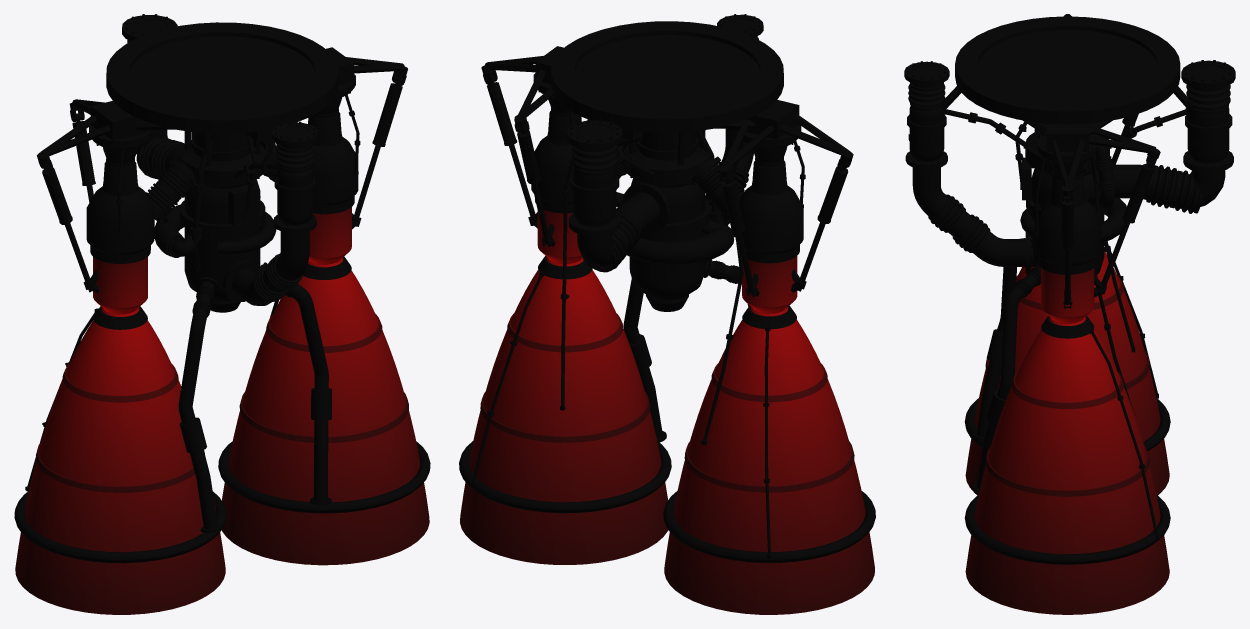
File: eng_kerolox_staged_combustion.fbx
3 renders of one model, left to right at view 1: azimuth 30°, elevation 25°; view 2: azimuth 150°, elevation 25°; view 3: azimuth 270°, elevation 25°, orthographic. The views are drawn at different scales.
Visible parts, largest first — view 1: eng_kerolox_staged_combustion_LOD0; view 2: eng_kerolox_staged_combustion_LOD0; view 3: eng_kerolox_staged_combustion_LOD0.
Boxes of the visible parts, x1=… form: eng_kerolox_staged_combustion_LOD0: x1=14, y1=14, x2=430, y2=614; eng_kerolox_staged_combustion_LOD0: x1=459, y1=14, x2=875, y2=614; eng_kerolox_staged_combustion_LOD0: x1=904, y1=14, x2=1235, y2=614.
Size of what is drawn, in the model's own units: 3.08 by 3.6 by 2.35.
